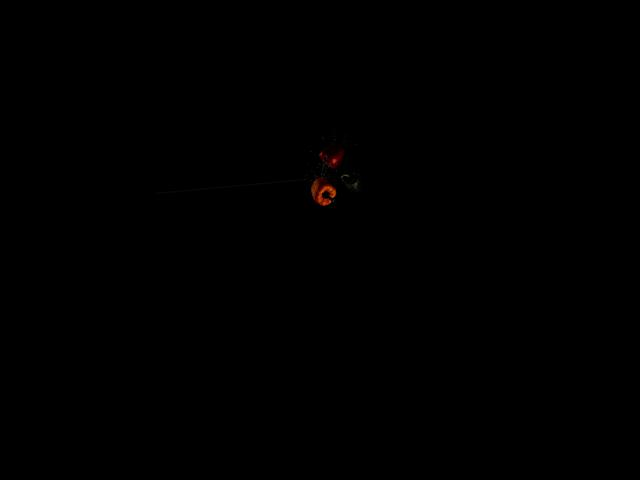bell_pepper: (312, 142, 351, 174)
